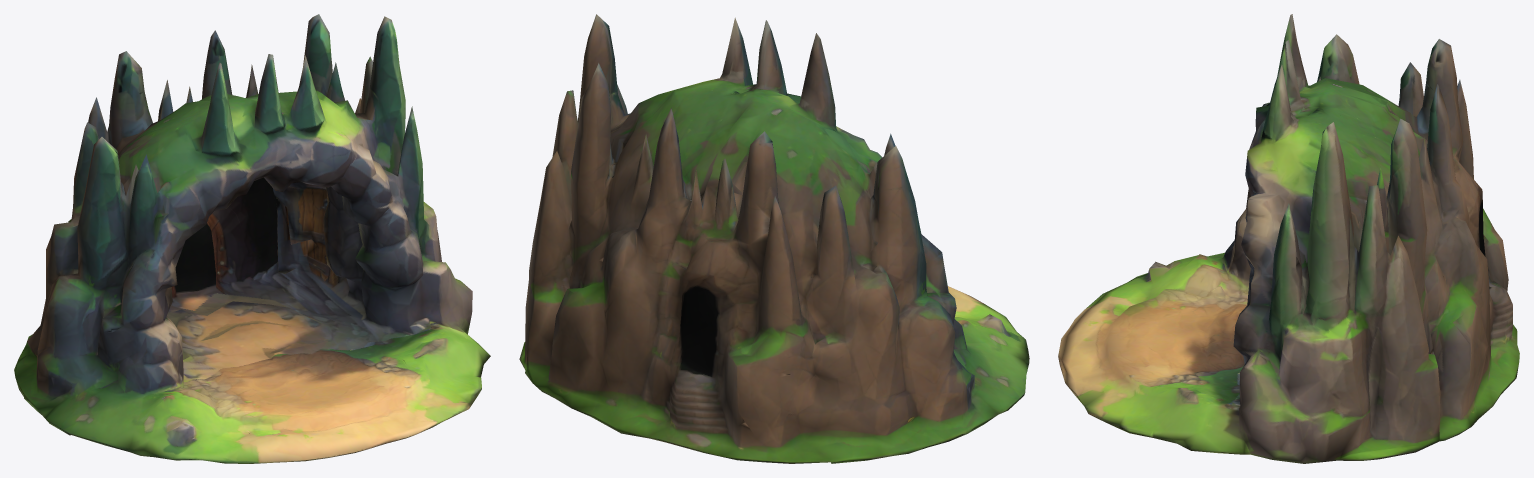
File: Dark_Cave.fbx
3 renders of one model, left to right at view 1: azimuth 30°, elevation 25°; view 2: azimuth 150°, elevation 25°; view 3: azimuth 270°, elevation 25°, orthographic. The views are drawn at different scales.
Parts seen in each view (by area): view 1: Mesh1_Mesh1.007; view 2: Mesh1_Mesh1.007; view 3: Mesh1_Mesh1.007.
Part boxes in pixels (x1,y1,x2,y2): Mesh1_Mesh1.007: (14,14,490,463); Mesh1_Mesh1.007: (519,14,1029,463); Mesh1_Mesh1.007: (1058,14,1519,463).
Size of the model in its own units: 27.5 by 20 by 25.13.
1 material, 1 textured.
